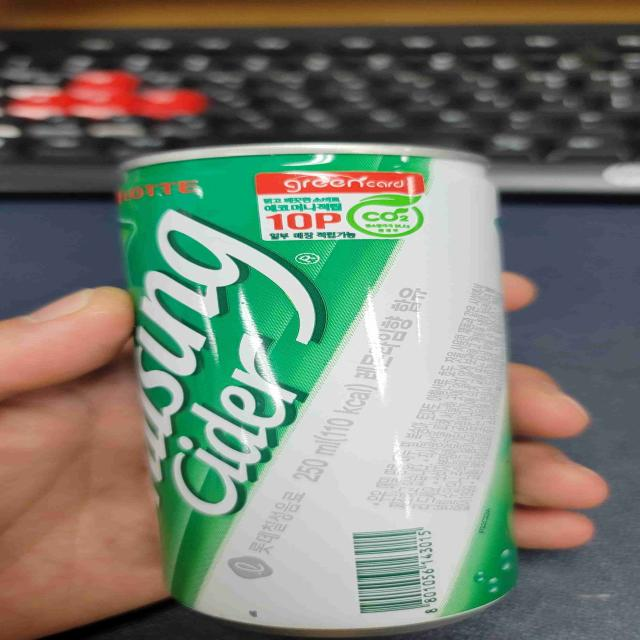can: (113, 143, 510, 634)
